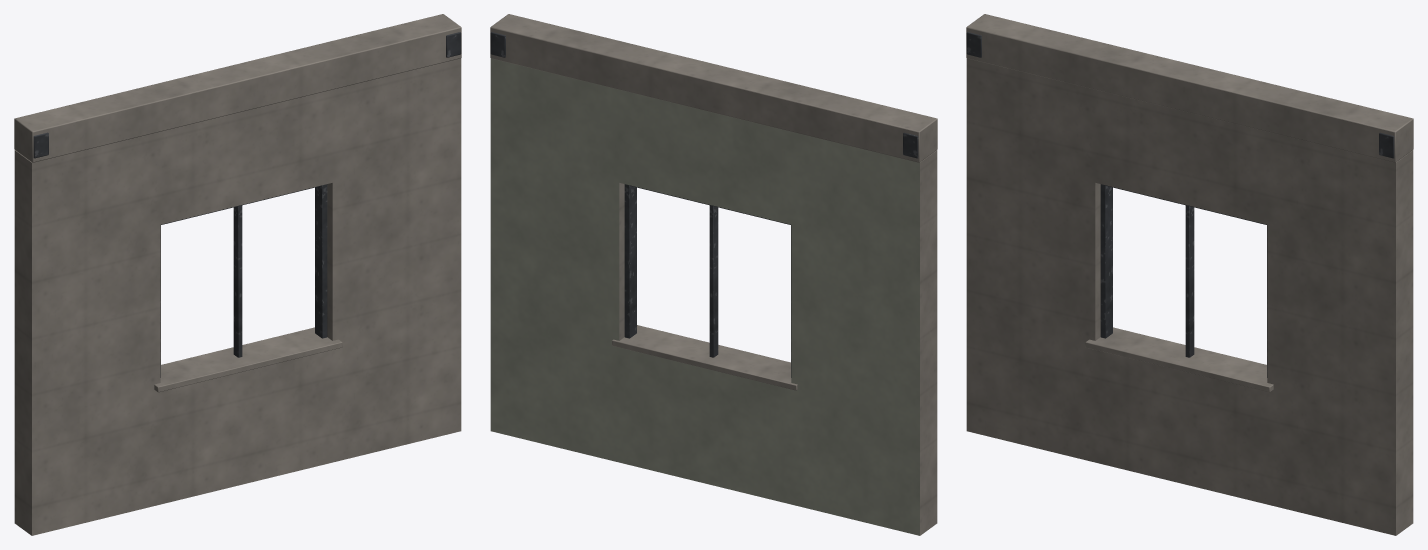
The model's file is BLD_Wall_Window_4m.glb.
3 views of the same model, side by side, from view 1: azimuth 30°, elevation 25°; view 2: azimuth 150°, elevation 25°; view 3: azimuth 330°, elevation 25° (orthographic).
Visible parts, largest first — view 1: BLD_Wall_Window_4m, BLD_Wall_Window_4m_HeaderBeam, BLD_Wall_Window_4m_Frame; view 2: BLD_Wall_Window_4m, BLD_Wall_Window_4m_HeaderBeam, BLD_Wall_Window_4m_Frame; view 3: BLD_Wall_Window_4m, BLD_Wall_Window_4m_HeaderBeam, BLD_Wall_Window_4m_Frame.
Boxes of the visible parts, <box> form: BLD_Wall_Window_4m: <box>14,58,461,535</box>; BLD_Wall_Window_4m_HeaderBeam: <box>14,14,461,162</box>; BLD_Wall_Window_4m_Frame: <box>154,184,342,392</box>; BLD_Wall_Window_4m: <box>490,58,937,535</box>; BLD_Wall_Window_4m_HeaderBeam: <box>490,14,937,162</box>; BLD_Wall_Window_4m_Frame: <box>612,184,797,390</box>; BLD_Wall_Window_4m: <box>966,58,1413,535</box>; BLD_Wall_Window_4m_HeaderBeam: <box>966,14,1413,162</box>; BLD_Wall_Window_4m_Frame: <box>1085,184,1273,392</box>.
Bounding box in the file's own units: 4 × 3.6 × 0.36.
5 materials, 5 textured.
